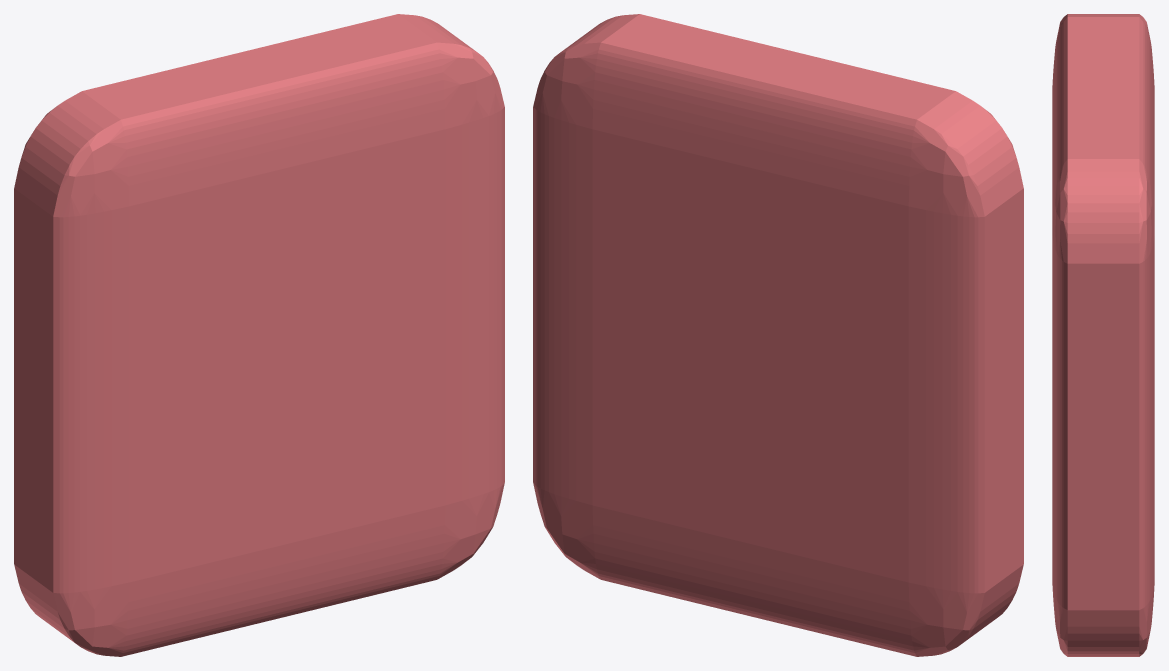
The model's file is square_obstacle_.fbx.
3 views of the same model, side by side, from view 1: azimuth 30°, elevation 25°; view 2: azimuth 150°, elevation 25°; view 3: azimuth 270°, elevation 25° (orthographic). The views are drawn at different scales.
Visible parts, largest first — view 1: obstacle4; view 2: obstacle4; view 3: obstacle4.
Part boxes in pixels (x1=…): obstacle4: x1=14, y1=14, x2=504, y2=656; obstacle4: x1=533, y1=14, x2=1023, y2=656; obstacle4: x1=1052, y1=14, x2=1154, y2=656.
Bounding box in the file's own units: 238 × 270 × 50.81.
